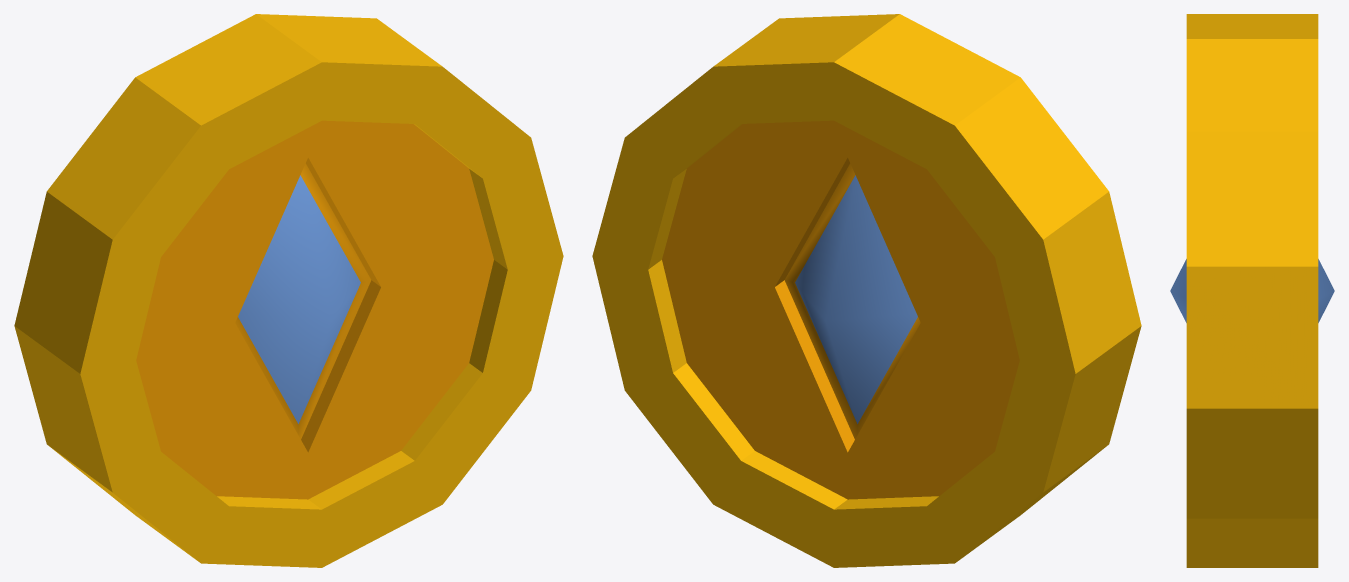
File: coin.fbx
3 renders of one model, left to right at view 1: azimuth 30°, elevation 25°; view 2: azimuth 150°, elevation 25°; view 3: azimuth 270°, elevation 25°, orthographic.
Visible parts, largest first — view 1: polySurface2; view 2: polySurface2; view 3: polySurface2.
Part boxes in pixels (box(x1,y1,x2,y2)): polySurface2: box(14, 14, 563, 567); polySurface2: box(592, 14, 1141, 567); polySurface2: box(1170, 14, 1334, 567).
Size of the model in its own units: 2.6 by 2.6 by 0.77.
Materials: 1 (1 with a texture image).
